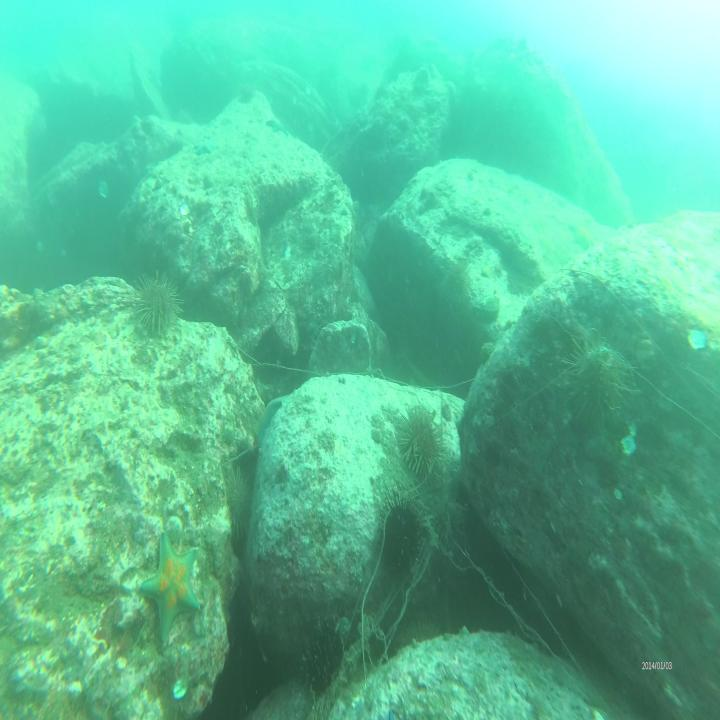echinus: (564, 338, 632, 430), (382, 498, 423, 578), (398, 408, 442, 482), (133, 272, 178, 337), (222, 460, 252, 537)
starfish: (138, 536, 203, 652)
